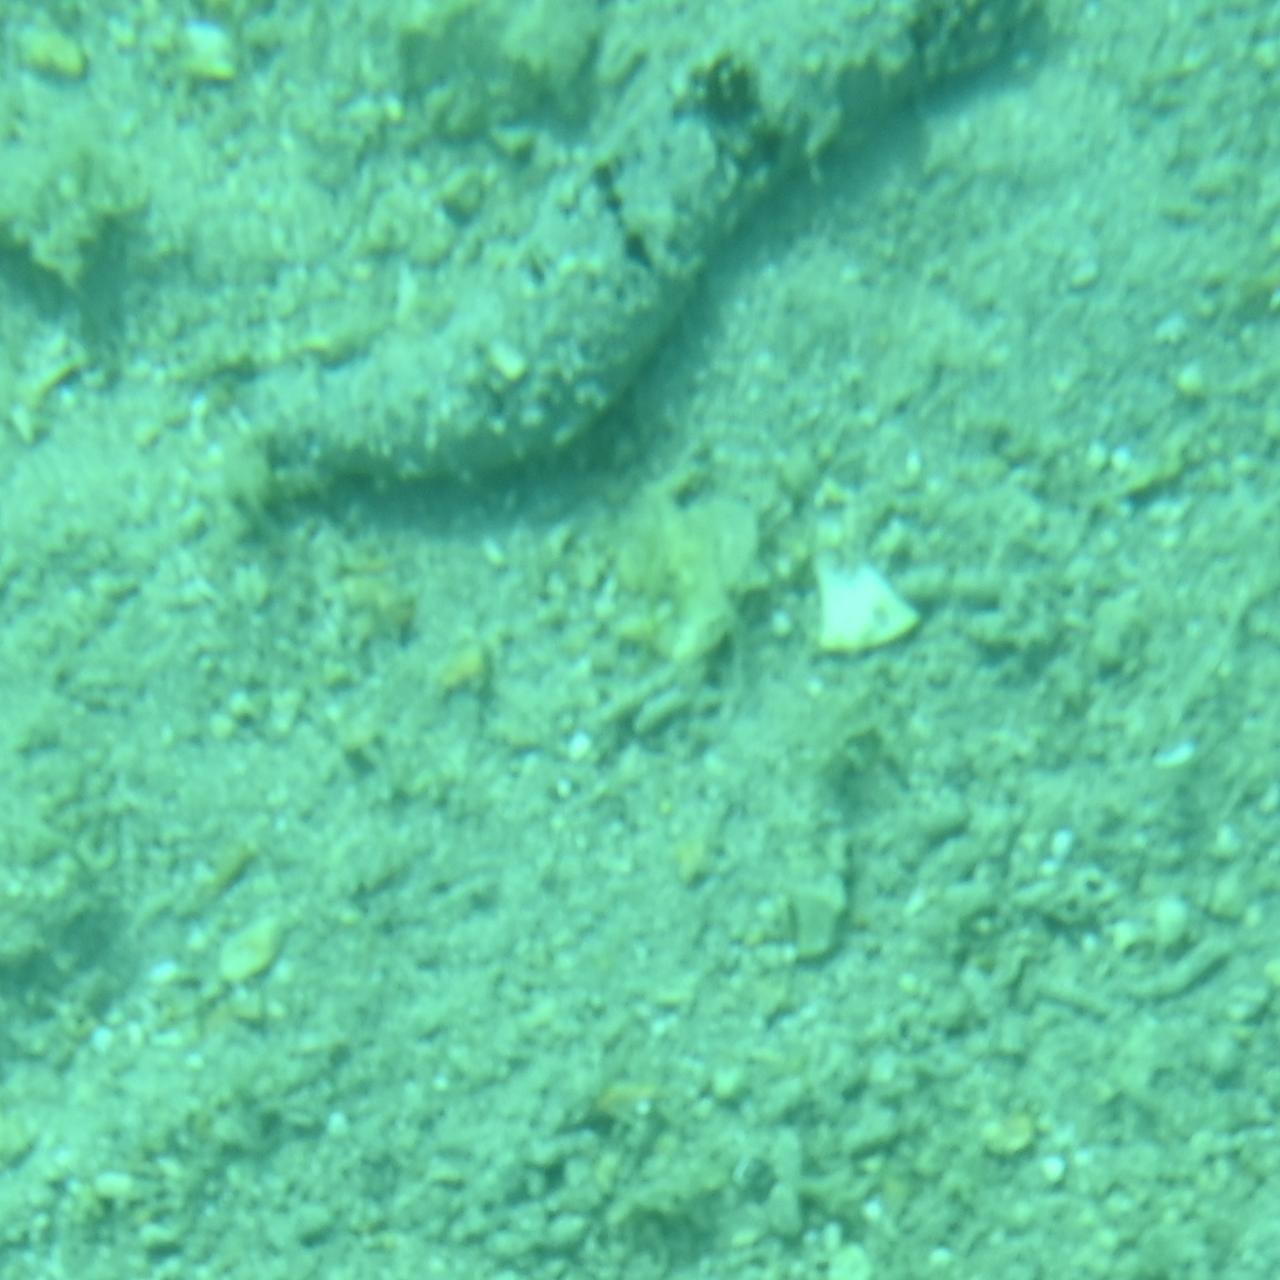Holothuria tubulosa: (201, 0, 1079, 534)
